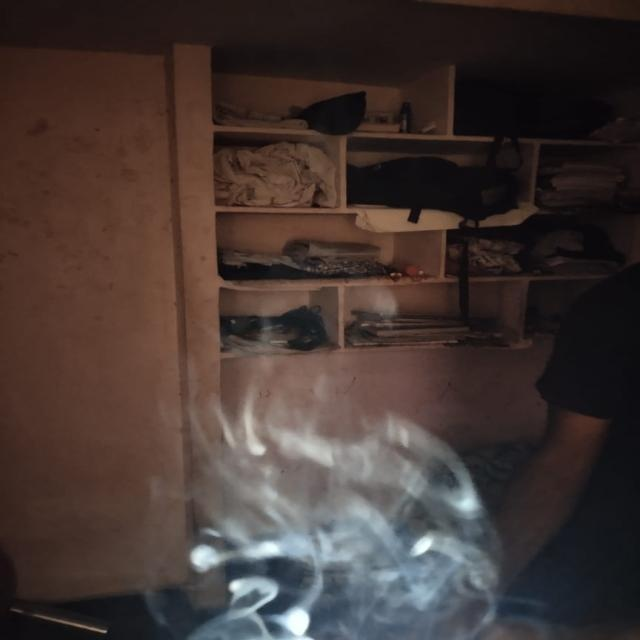smoke: (197, 391, 483, 611)
